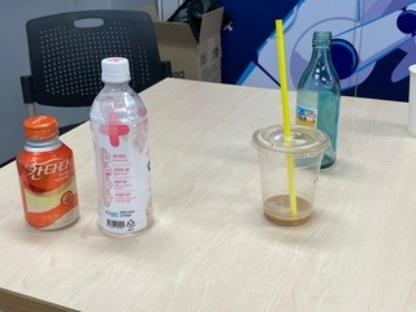Others: (17, 113, 80, 233), (295, 27, 343, 168)
Plastic Bottle: (89, 56, 155, 240)
Plastic Cup: (251, 123, 329, 226)
